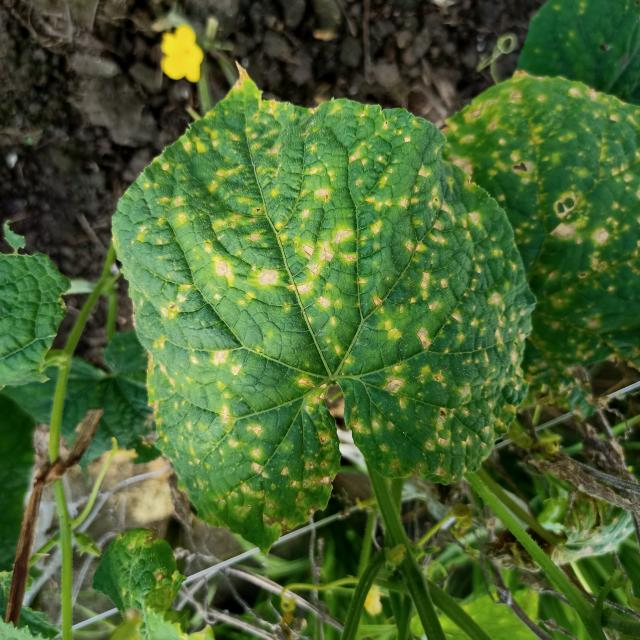disease_cucumber: (127, 95, 520, 540), (428, 73, 640, 383)
